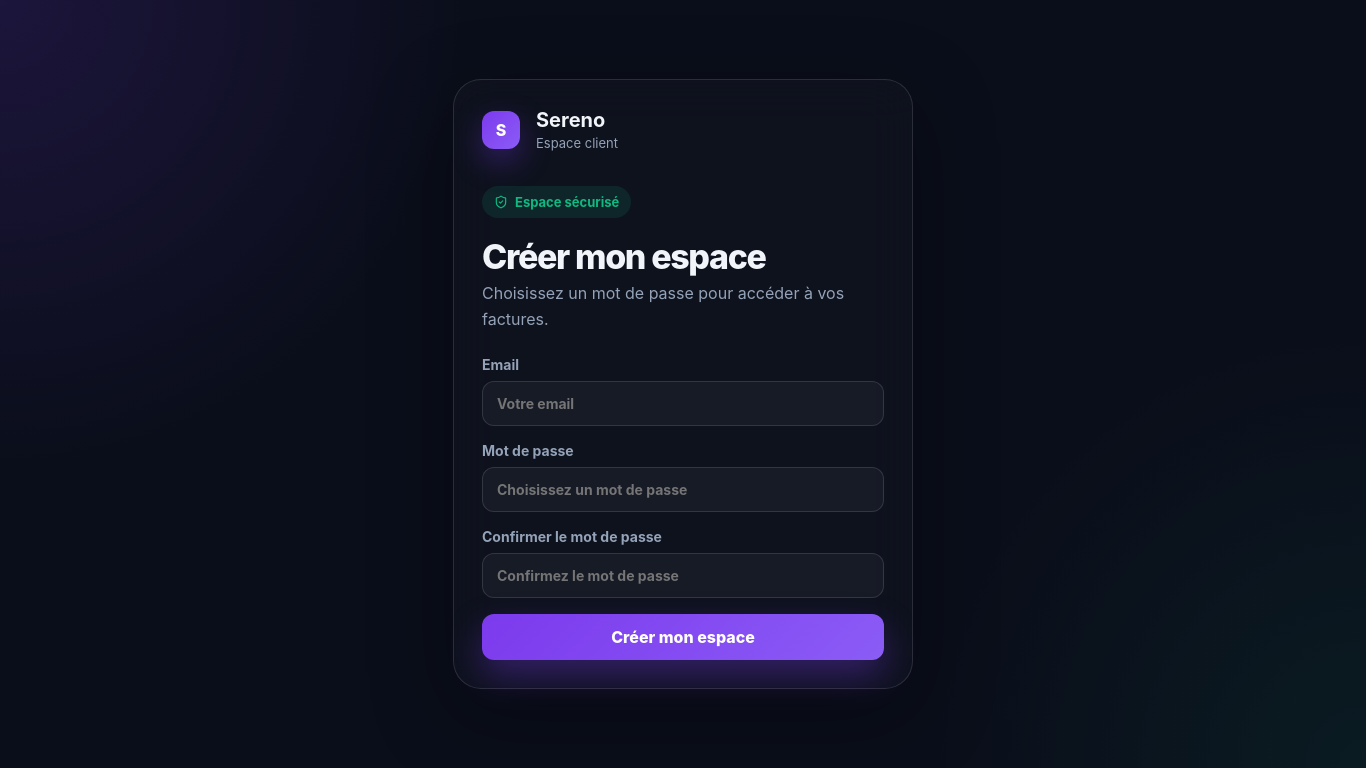
Test case: EspaceClientActivationPage › lien invalide/expiré -> message sobre, distinct de l'erreur brute backend
This screenshot has width=1366, height=768.
Type "nouveau@test.fr" into the field with placeholder "Votre email" at (683, 404), box [482, 381, 884, 426]
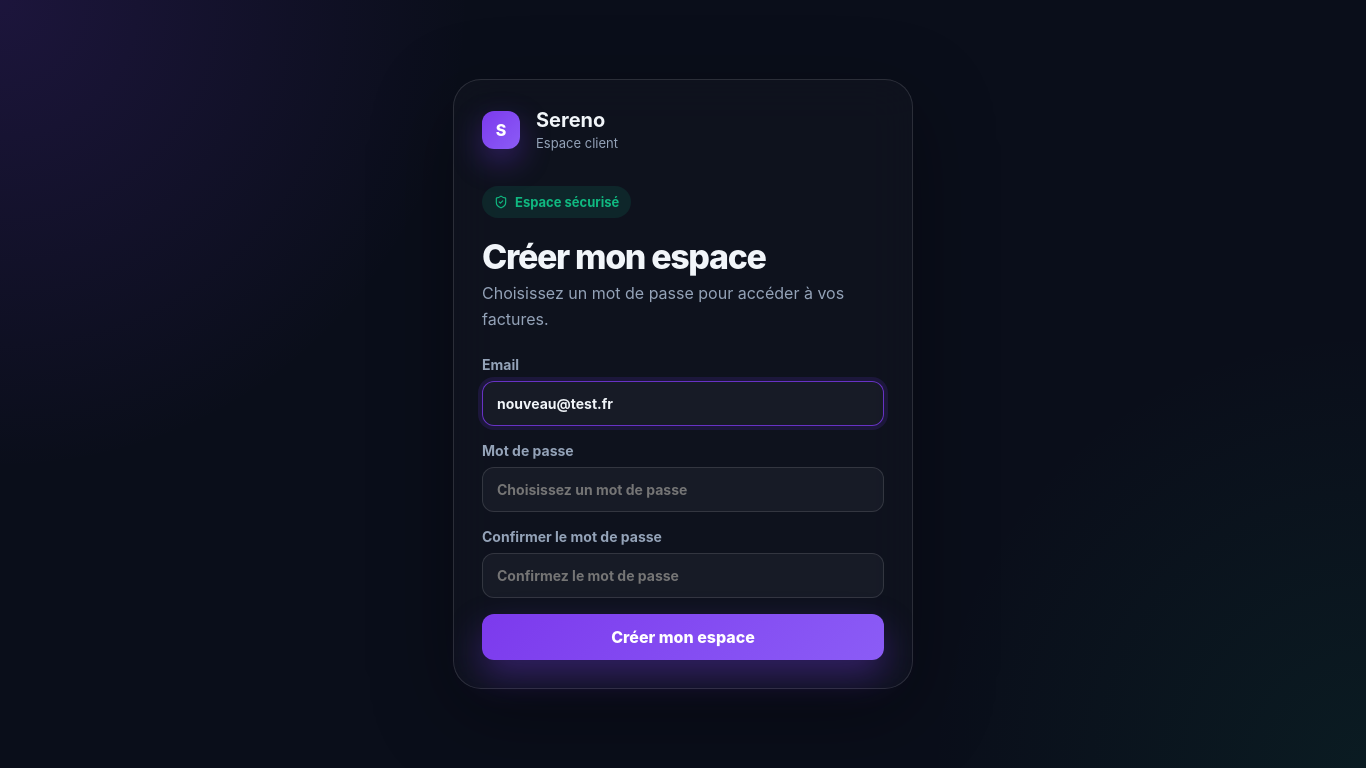
Type "motdepasse123" into the password field with placeholder "Choisissez un mot de passe" at (683, 490), box [482, 467, 884, 512]
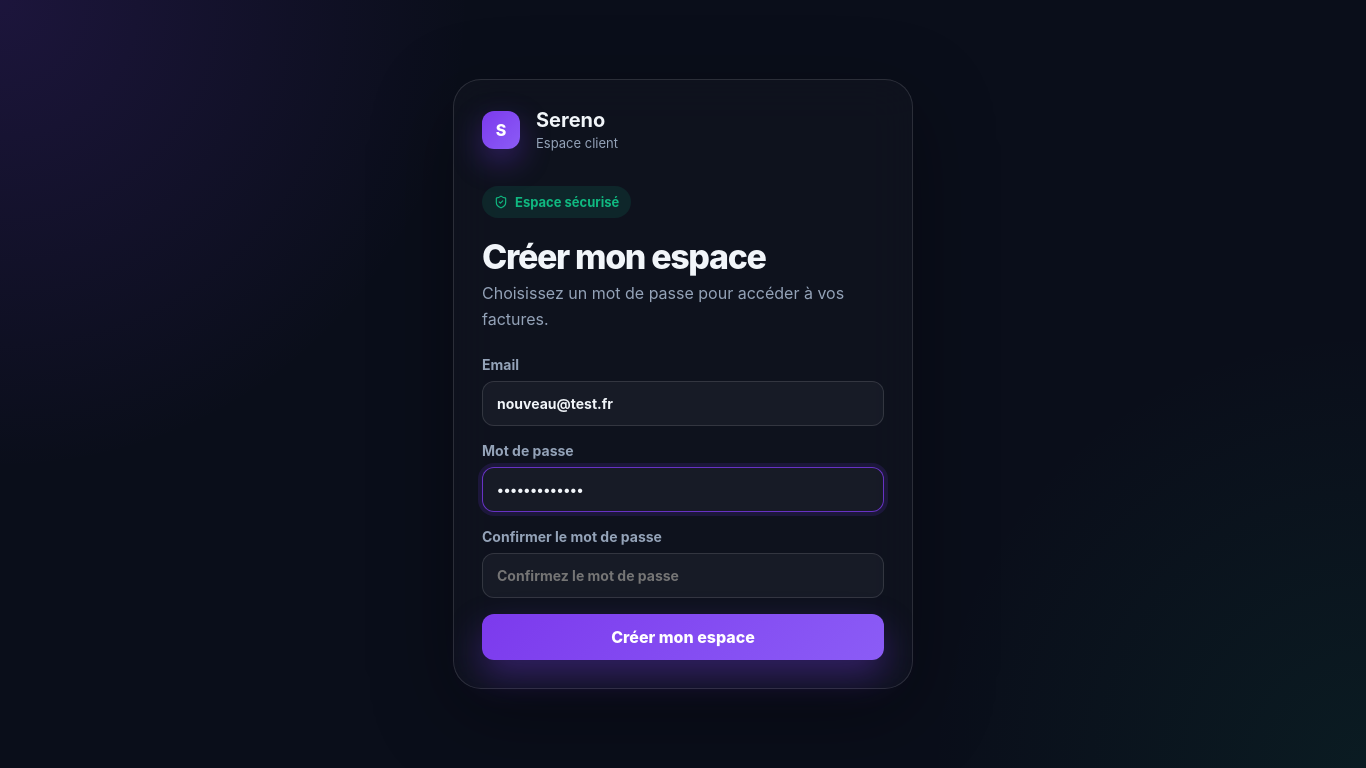
Type "motdepasse123" into the password field with placeholder "Confirmez le mot de passe" at (683, 576), box [482, 553, 884, 598]
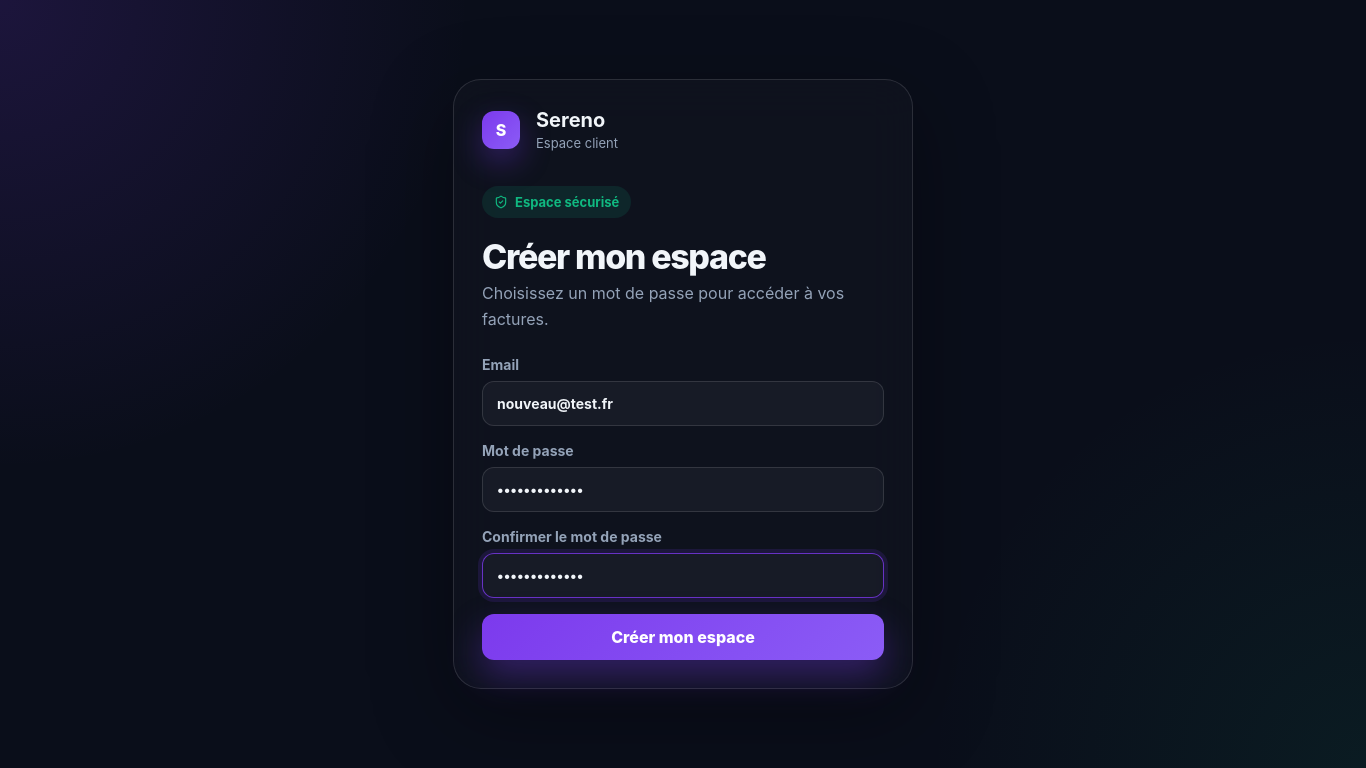
Click the button "Créer mon espace" at (683, 637), box [482, 614, 884, 660]
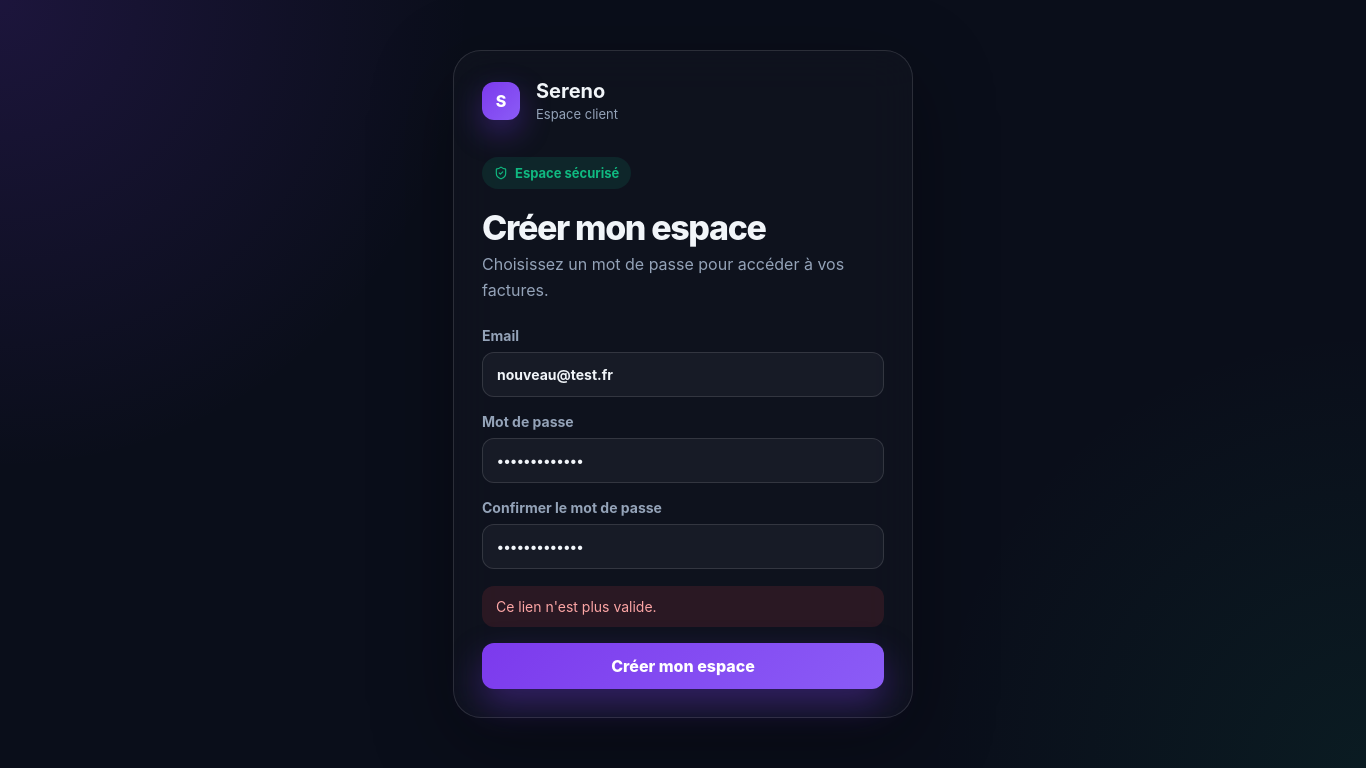
Check: the text "Ce lien n'est plus valide." is shown, box [482, 586, 884, 627]
